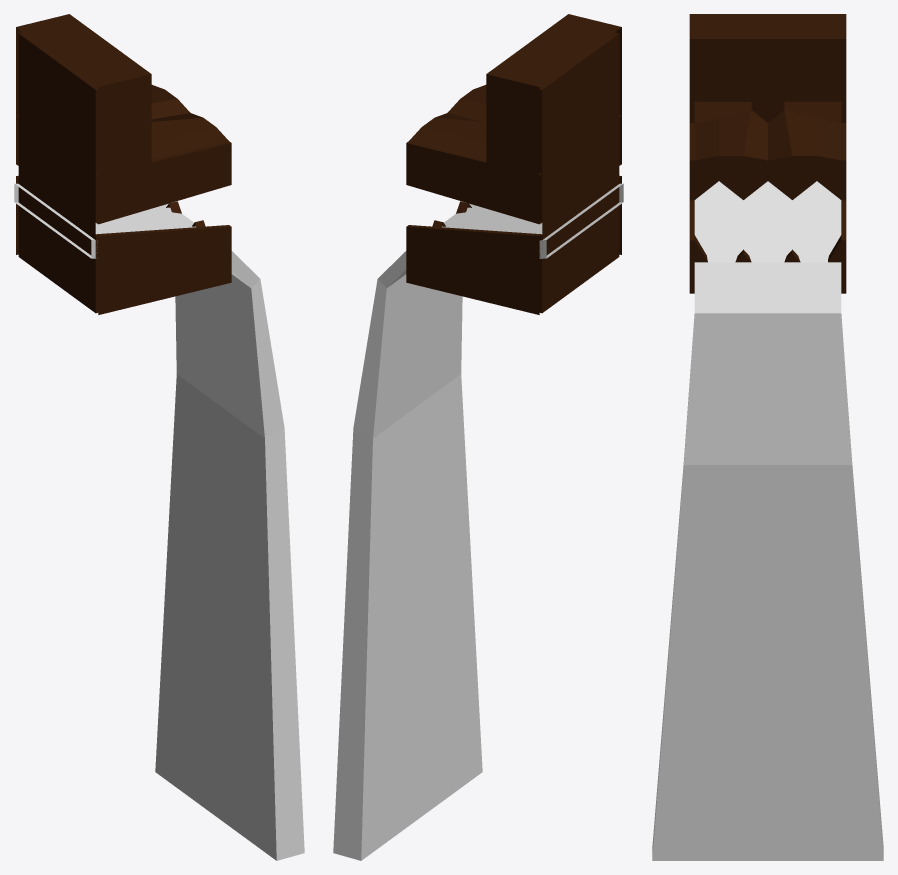
The model's file is RoboSkull_w_Lava.fbx.
3 views of the same model, side by side, from view 1: azimuth 30°, elevation 25°; view 2: azimuth 150°, elevation 25°; view 3: azimuth 270°, elevation 25° (orthographic). The views are drawn at different scales.
Visible parts, largest first — view 1: LavaFall_big, Angry_RoboFace_LP; view 2: LavaFall_big, Angry_RoboFace_LP; view 3: LavaFall_big, Angry_RoboFace_LP.
Part boxes in pixels (bbox=[...]): LavaFall_big: bbox=[14, 183, 304, 860]; Angry_RoboFace_LP: bbox=[16, 14, 231, 314]; LavaFall_big: bbox=[333, 183, 623, 860]; Angry_RoboFace_LP: bbox=[406, 14, 621, 314]; LavaFall_big: bbox=[652, 181, 883, 860]; Angry_RoboFace_LP: bbox=[689, 14, 846, 293].
Size of the model in its own units: 4300 by 17148 by 4729.
